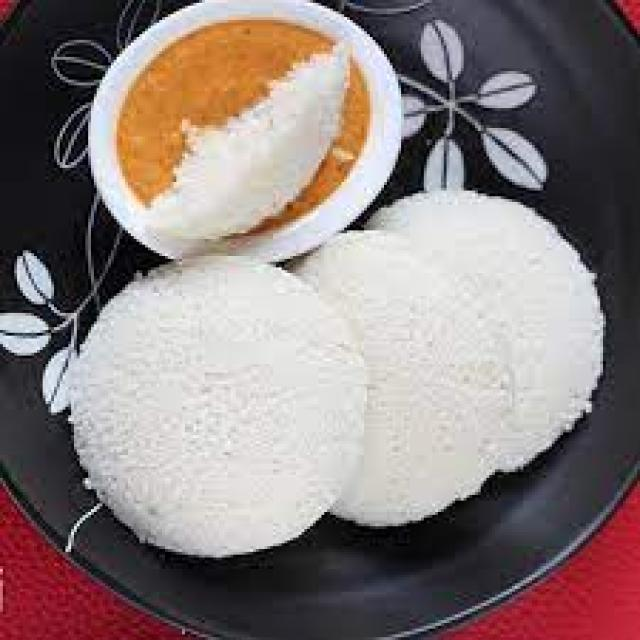idli: (68, 253, 367, 549), (259, 233, 518, 529), (358, 190, 609, 478), (140, 37, 356, 245)
